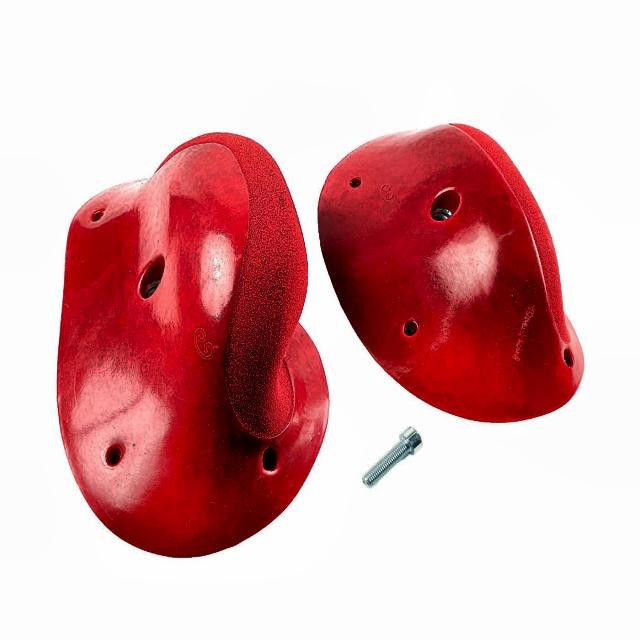Hold: (52, 129, 324, 556), (324, 120, 584, 425)
